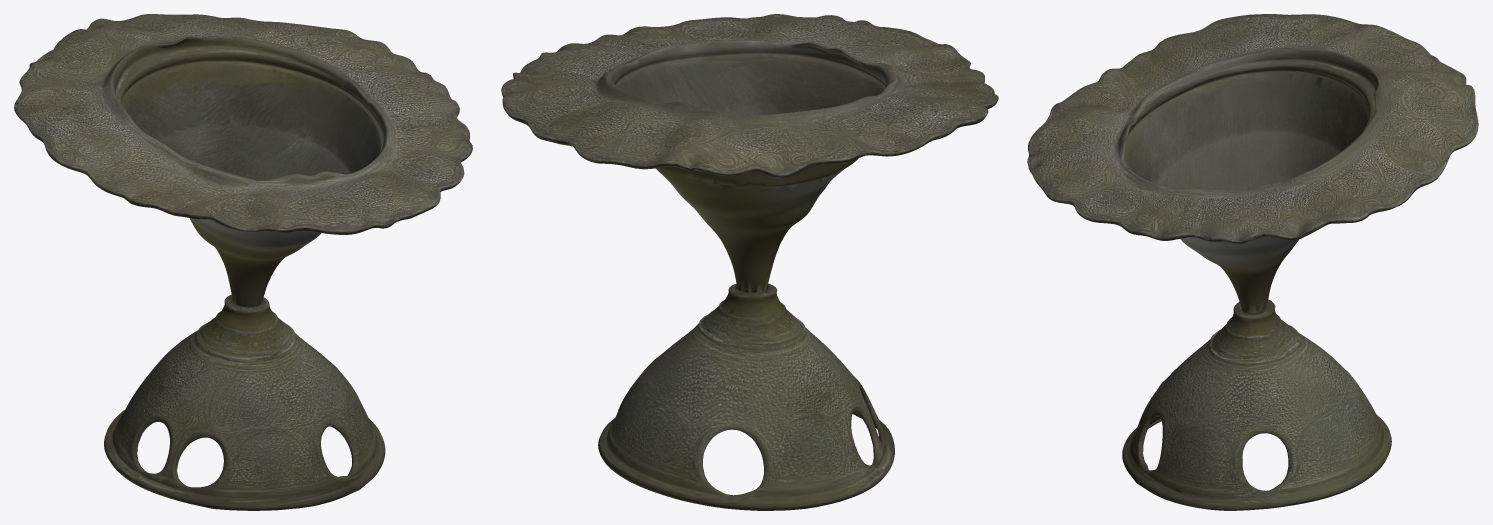
File: ciborium.glb
3 renders of one model, left to right at view 1: azimuth 30°, elevation 25°; view 2: azimuth 150°, elevation 25°; view 3: azimuth 270°, elevation 25°, orthographic. The views are drawn at different scales.
Visible parts, largest first — view 1: node_0; view 2: node_0; view 3: node_0.
Boxes of the visible parts, bbox=[...] form: node_0: bbox=[14, 14, 472, 510]; node_0: bbox=[501, 14, 998, 510]; node_0: bbox=[1027, 14, 1478, 510].
Size of the model in its own units: 0.9168 by 0.8236 by 0.9227.
Materials: 1 (1 with a texture image).
